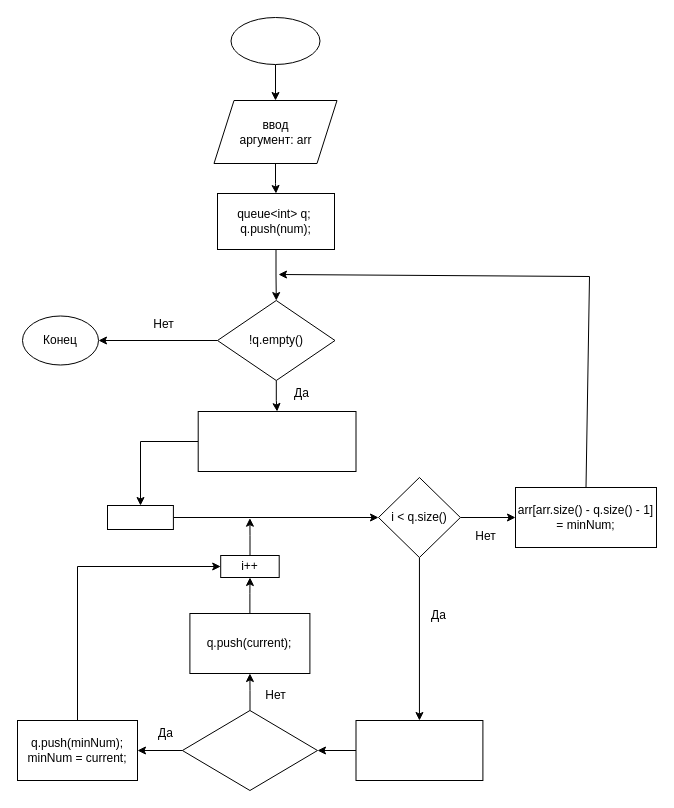
Image size: 674x808. Some labels were removed from this diagram. Here are the shapes that lost their labels. From the top down, the centre of each, then its label:
point (275, 40): Начало
point (276, 441): int minNum = q.front(); q.pop();
point (139, 517): int i =0;
point (249, 750): current < minNum
point (419, 750): int current = q.front(); q.pop();
